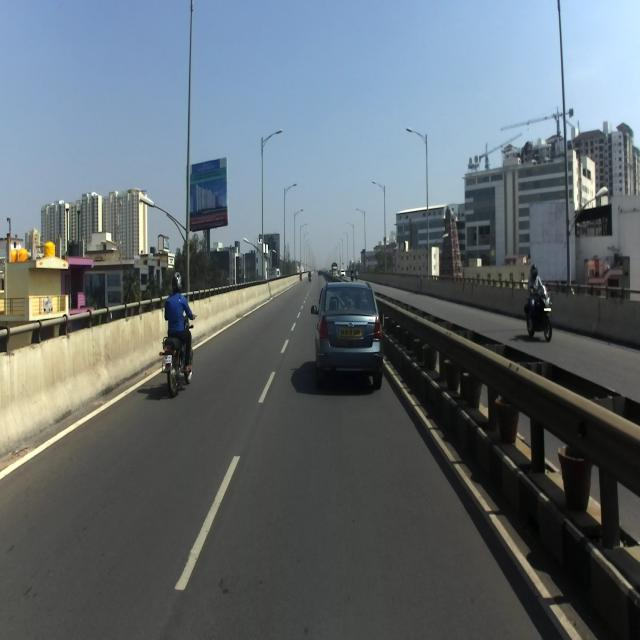car ahead at: (309, 271, 385, 389)
motorcycle ahead at: (160, 331, 195, 393)
